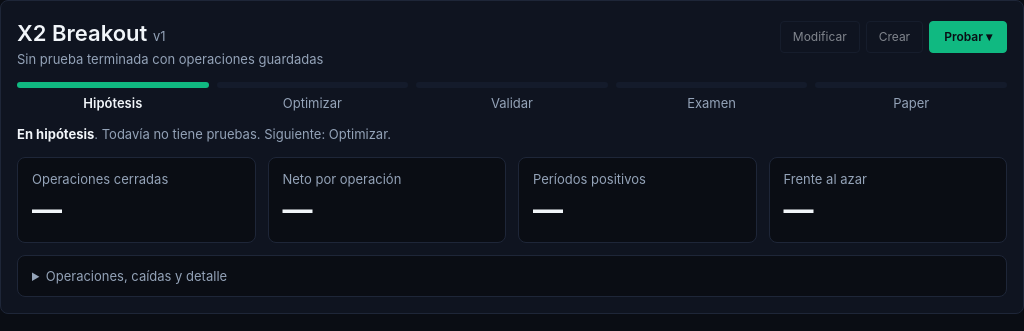
Scenario: un solo botón «Probar» con las formas de probar adentro, y sin el analizador
Click the button "Probar ▾" at (968, 37), box x1=929 y1=21 x2=1007 y2=53
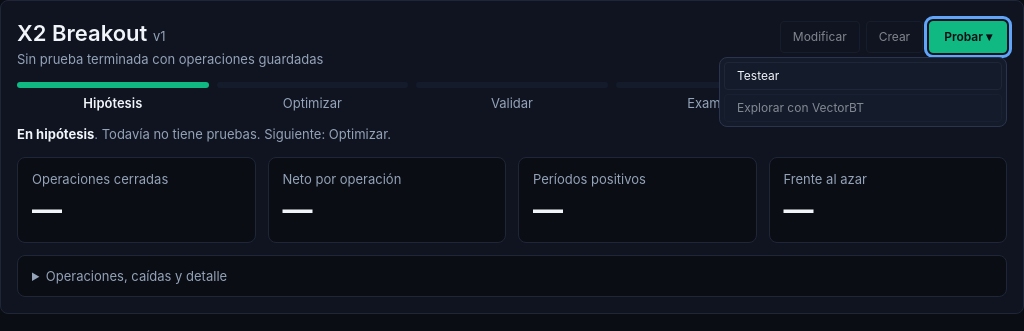
Expected: the element with test id "stage-where" reads "En hipótesis. Todavía no tiene pruebas. Siguiente: Optimizar.", x1=17 y1=126 x2=391 y2=142
Expected: the button "Testear" is shown, x1=724 y1=62 x2=1002 y2=90
Expected: the button "Explorar con VectorBT" is shown, x1=724 y1=94 x2=1002 y2=122
